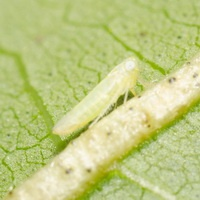insect: (84, 102, 199, 199), (52, 57, 138, 135)
